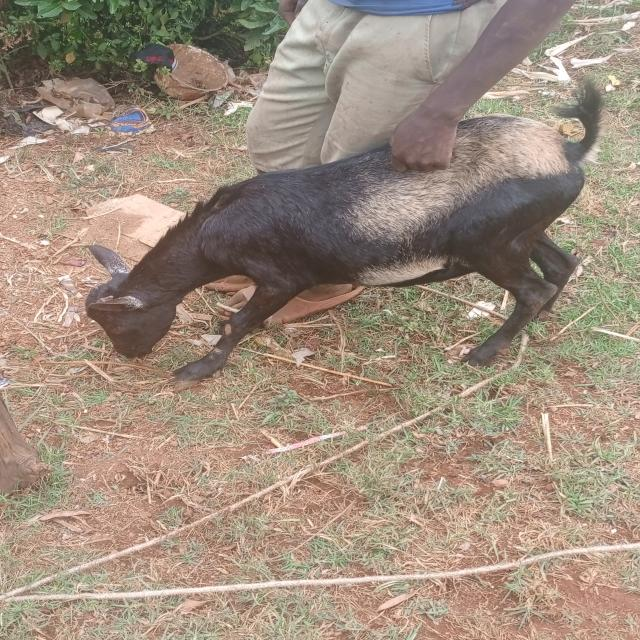goat: (36, 73, 640, 432)
